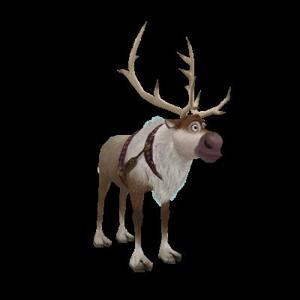sven: (99, 20, 238, 289)
